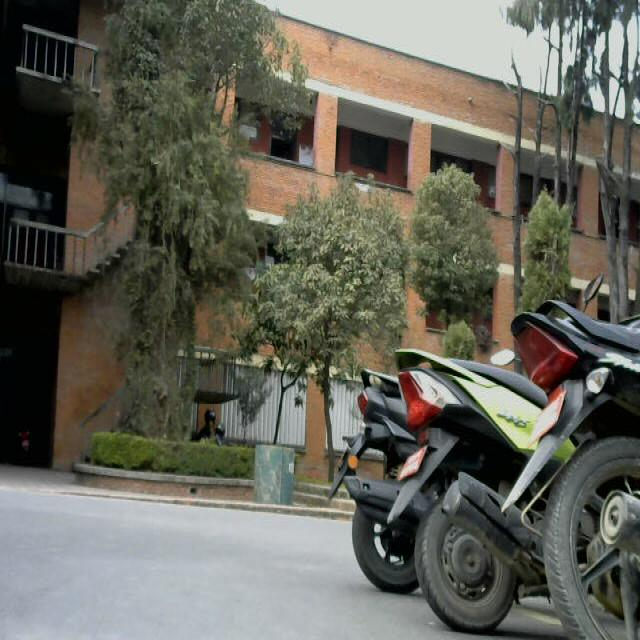Parking: (332, 272, 640, 633)
Road: (0, 492, 429, 639)
dustbin: (256, 444, 302, 506)
trees: (111, 3, 250, 463), (269, 185, 420, 371), (412, 170, 504, 330)
